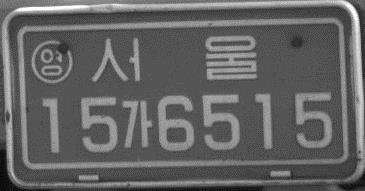1: (250, 90, 279, 153), (38, 94, 65, 155)
5: (292, 90, 335, 150), (78, 94, 120, 154), (200, 91, 241, 152)
6: (156, 94, 195, 152)
가: (119, 98, 154, 151)
서울_D: (88, 32, 259, 86)
영: (28, 38, 75, 84)
